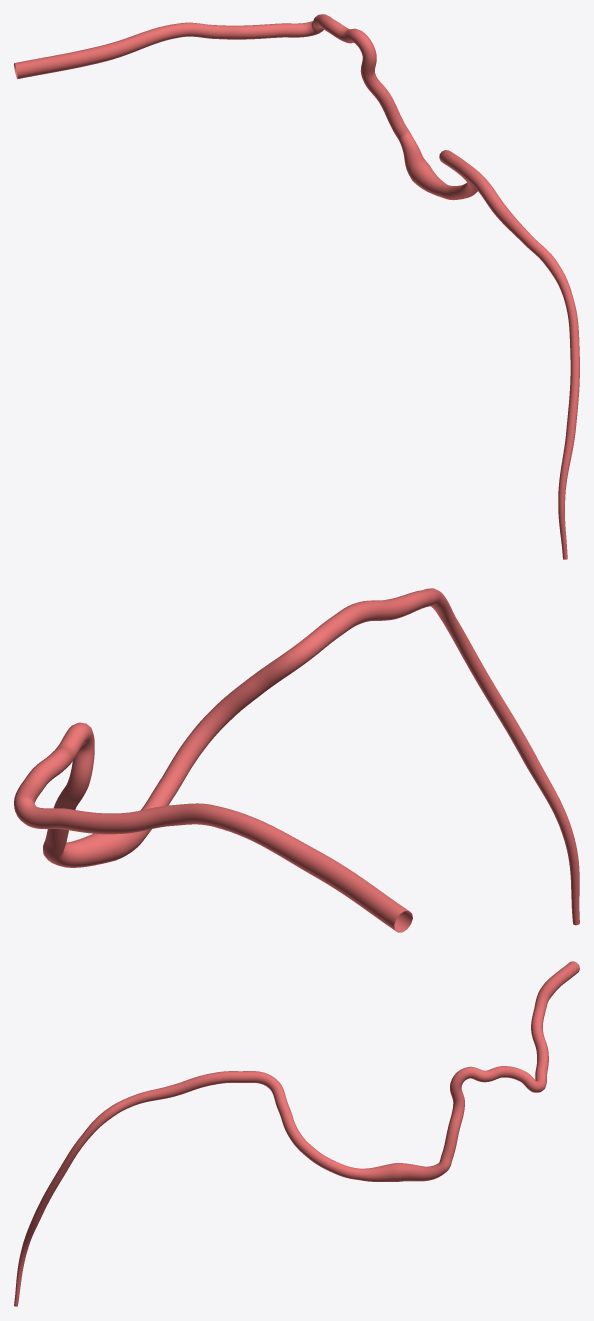
Rendered from Anterior_ethmoidal_artery.r_BezierCurve.358.glb.
3 views of the same model, one above another, from view 1: azimuth 30°, elevation 25°; view 2: azimuth 150°, elevation 25°; view 3: azimuth 270°, elevation 25° (orthographic). The views are drawn at different scales.
Parts seen in each view (by area): view 1: Anterior_ethmoidal_artery.r_BezierCurve.358; view 2: Anterior_ethmoidal_artery.r_BezierCurve.358; view 3: Anterior_ethmoidal_artery.r_BezierCurve.358.
Boxes of the visible parts, x1,y1,x2,y2 form: Anterior_ethmoidal_artery.r_BezierCurve.358: [14, 14, 579, 559]; Anterior_ethmoidal_artery.r_BezierCurve.358: [14, 588, 579, 932]; Anterior_ethmoidal_artery.r_BezierCurve.358: [14, 961, 579, 1306].
Size of the model in its own units: 0.0157 by 0.0152 by 0.0287.
